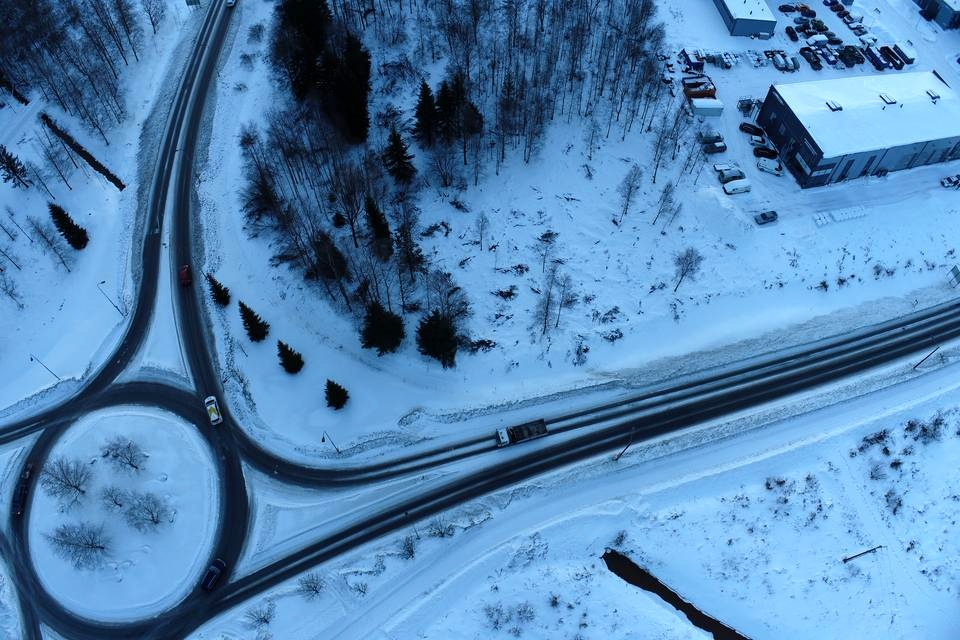roundabout: (0, 359, 307, 640)
